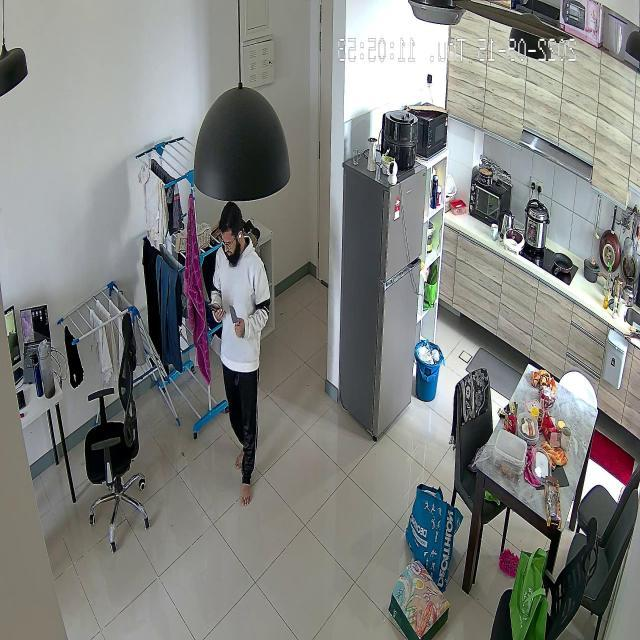Knife: (218, 302, 254, 348)
